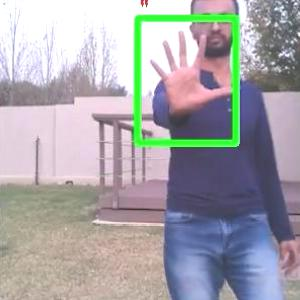follow_hand: (144, 24, 238, 115)
